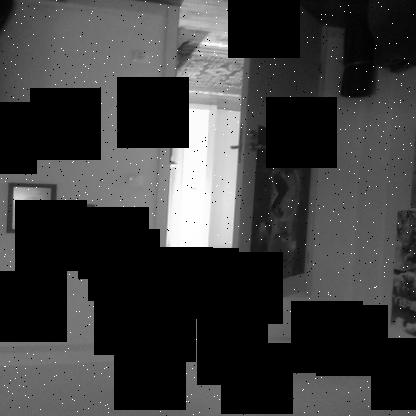Porte: (146, 1, 329, 313)
